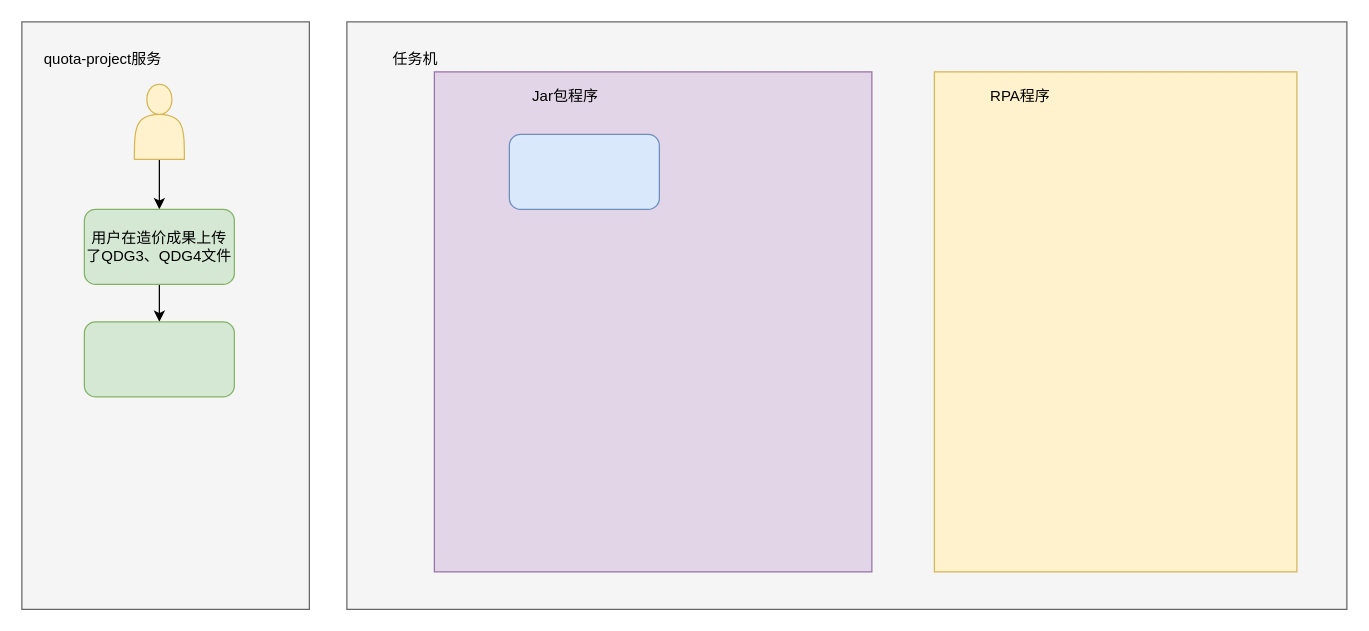
The diagram is 1369 pixels wide and 631 high, and some of its shapes have lost their labels. The centre of each missing label's shape, as x and y in pixels:
"将这两条文件记录插入到t_record_analy_file表" belongs at (x=158, y=359).
"读需要解析的文件" belongs at (x=583, y=171).
